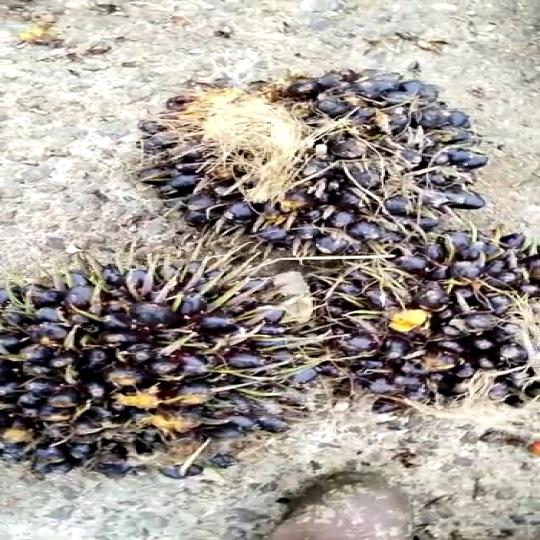mentah: (96, 55, 540, 275), (0, 247, 322, 489), (254, 229, 540, 432)
